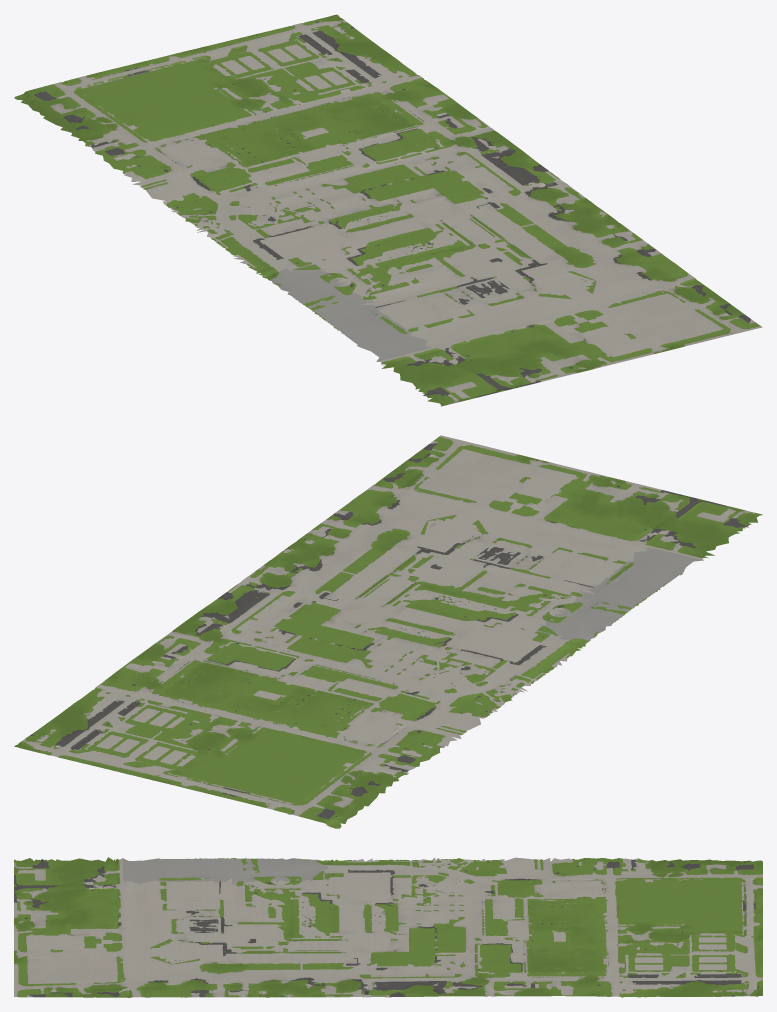
File: wmhs-v3-partA2-terrain-east.glb
The picture shows the model from 3 angles, top to bottom: view 1: azimuth 30°, elevation 25°; view 2: azimuth 150°, elevation 25°; view 3: azimuth 270°, elevation 25°; orthographic projection. The views are drawn at different scales.
Visible parts, largest first — view 1: Terrain_LiDAR05_East; view 2: Terrain_LiDAR05_East; view 3: Terrain_LiDAR05_East.
Part boxes in pixels (box(x1,y1,x2,y2)): Terrain_LiDAR05_East: box(14, 14, 762, 406); Terrain_LiDAR05_East: box(14, 435, 762, 828); Terrain_LiDAR05_East: box(14, 857, 762, 997).
Bounding box in the file's own units: 285 × 3.63 × 642.
5 materials, 5 textured.
